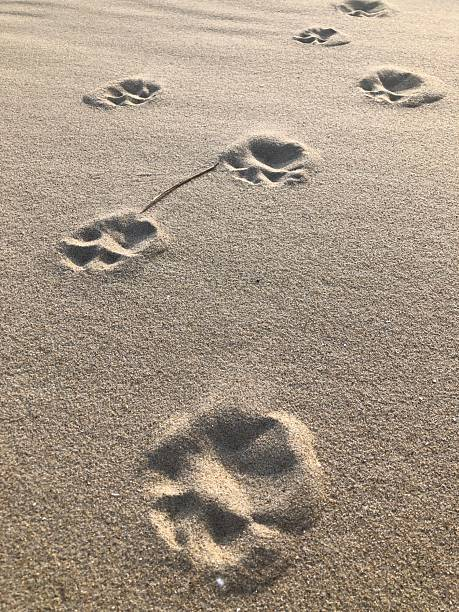animal_footprint: (146, 398, 325, 589), (59, 213, 166, 270), (220, 135, 319, 185), (359, 66, 444, 106), (83, 77, 160, 109), (293, 26, 349, 45), (335, 0, 392, 16)
